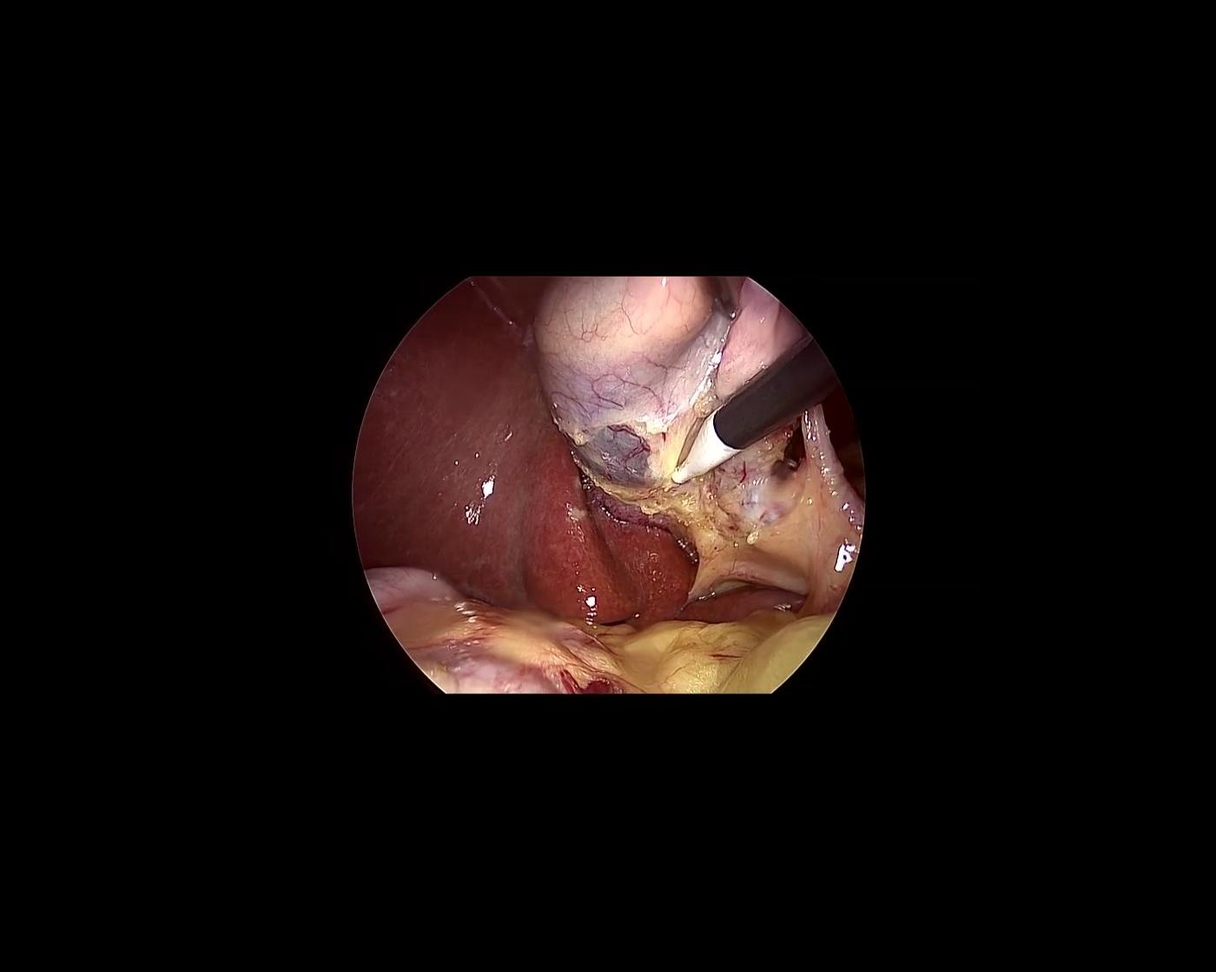Cautery: (646, 339, 846, 497)
Gallbladder: (532, 278, 736, 488)
Liver: (266, 274, 715, 749)
